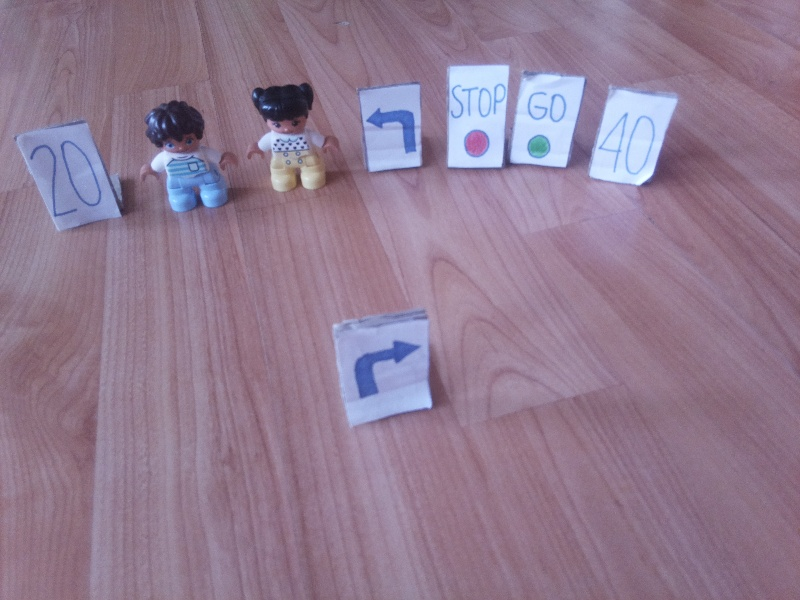20: (32, 138, 107, 212)
40: (603, 106, 656, 177)
go: (521, 86, 567, 158)
person: (134, 98, 240, 217), (251, 79, 343, 208)
stop: (449, 72, 503, 156)
turn left: (364, 100, 421, 157)
turn right: (352, 329, 419, 404)
